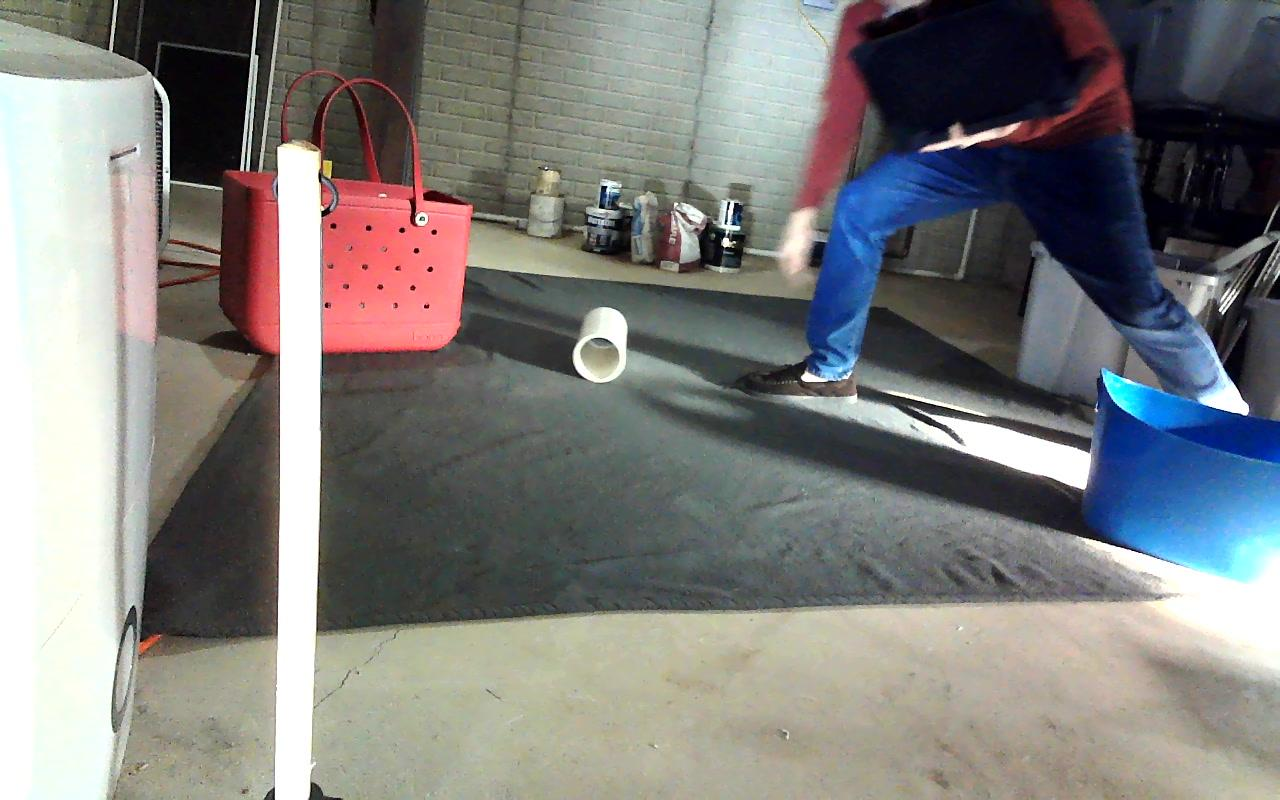coral: (572, 307, 627, 384)
